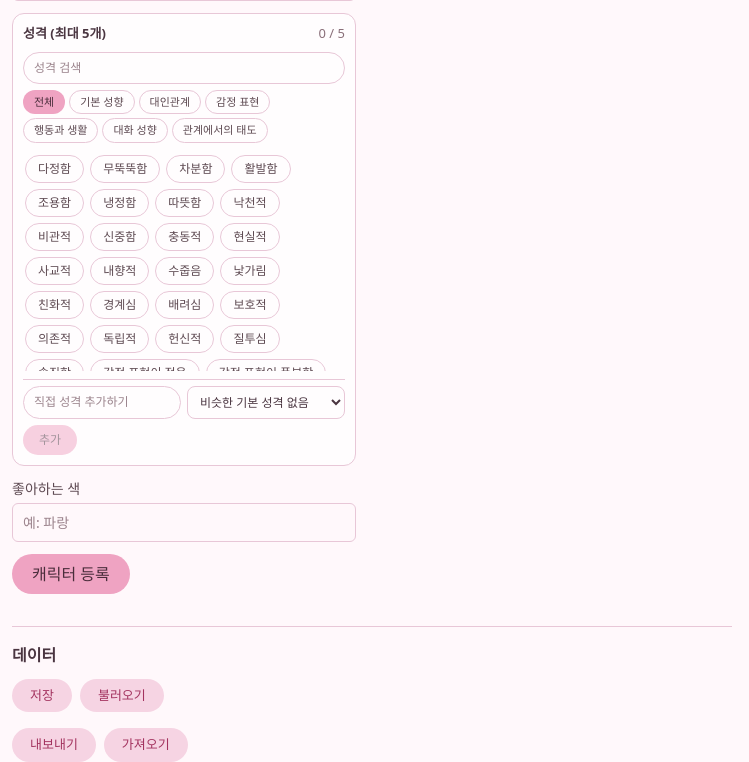
Test: SetupScreen: 데이터 섹션 (저장/불러오기) › 저장 버튼을 누르면 localStorage에 기존과 동일한 키/schemaVersion으로 저장되고 성공 메시지가 뜬다
This screenshot has width=749, height=762.
(page scrolled)
What coordinates should you click on to do the following:
click the button "저장"
I would click on:
 (42, 695)
Its box is x1=12 y1=678 x2=72 y2=712.
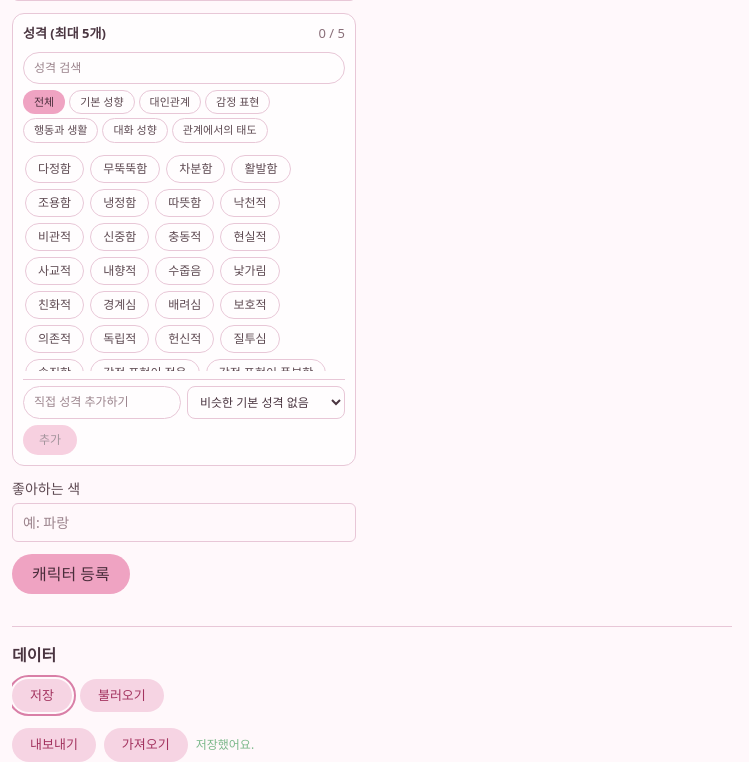
Check: the text "저장했어요." is shown, box x1=196 y1=736 x2=254 y2=754
